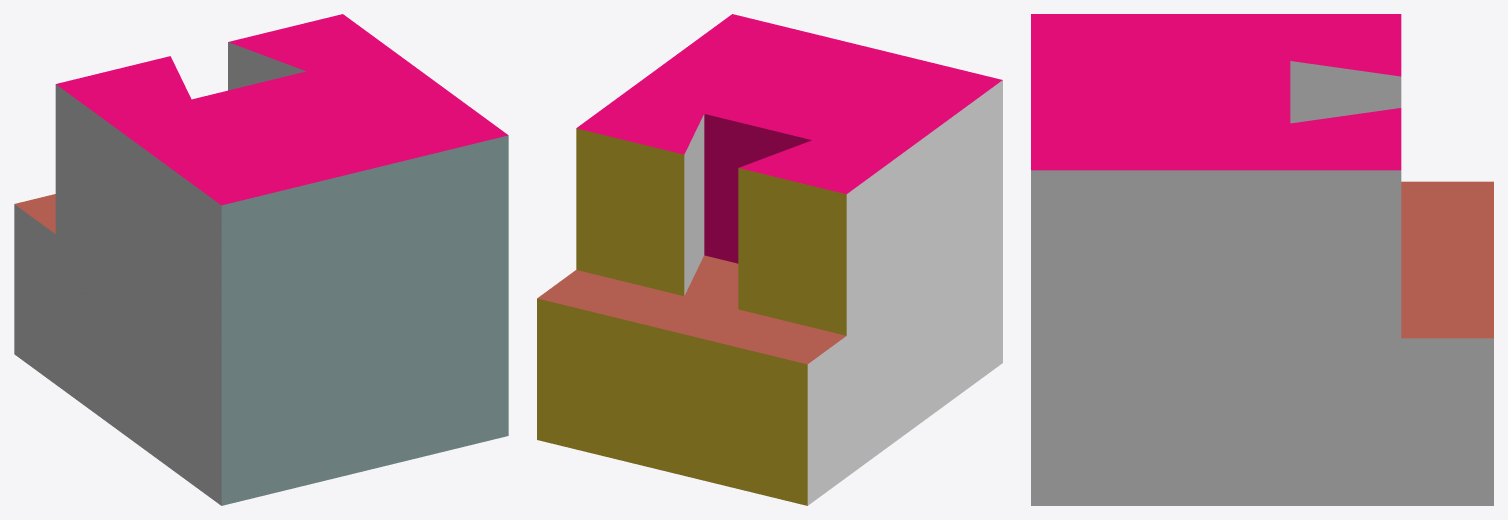
3 views of the same model, side by side, from view 1: azimuth 30°, elevation 25°; view 2: azimuth 150°, elevation 25°; view 3: azimuth 270°, elevation 25° (orthographic). The views are drawn at different scales.
Parts seen in each view (by area): view 1: kama; view 2: kama; view 3: kama.
Part boxes in pixels (x1,y1,x2,y2): kama: (14, 14, 508, 505); kama: (537, 14, 1002, 505); kama: (1031, 14, 1493, 505).
Size of the model in its own units: 0.2 by 0.2 by 0.25.
